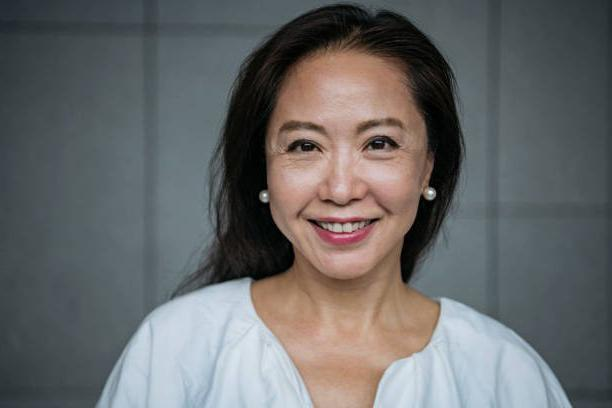Sober: (276, 77, 411, 266)
